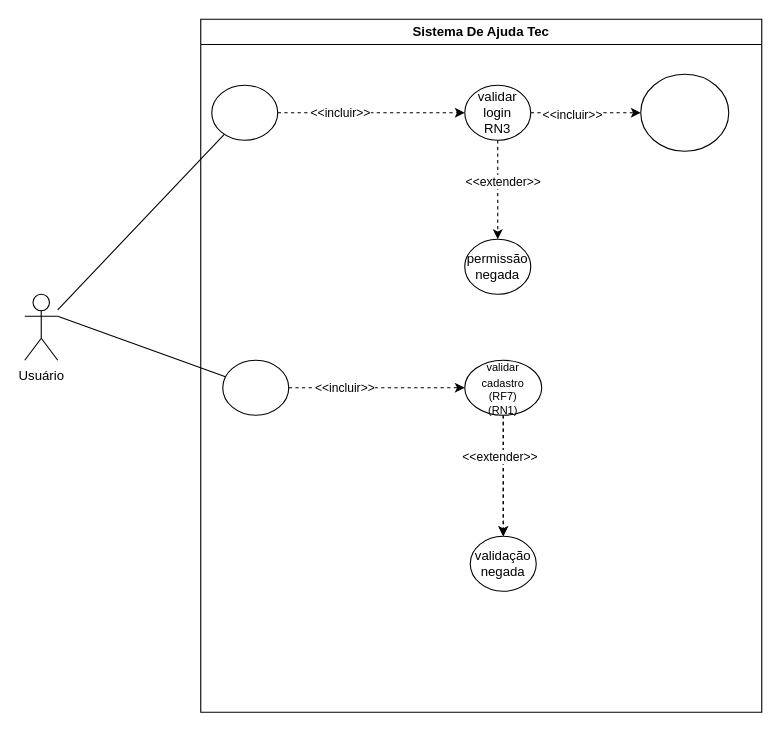
Some shapes in this 781 by 732 pixel diagram are drawn without their labels. The shapes that lost their labels are listed below. From the top down, each one's centre as x and y in pixels, then its label:
At pixel 244 112: "Fazer login".
At pixel 684 112: "3 pontos ao usuário (RN3)".
At pixel 255 387: "cadastrar".
